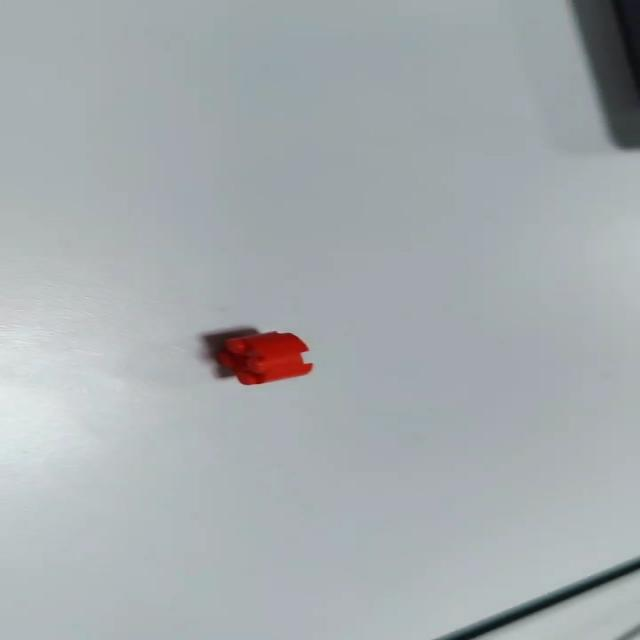S2x2x1: (192, 318, 324, 384)
